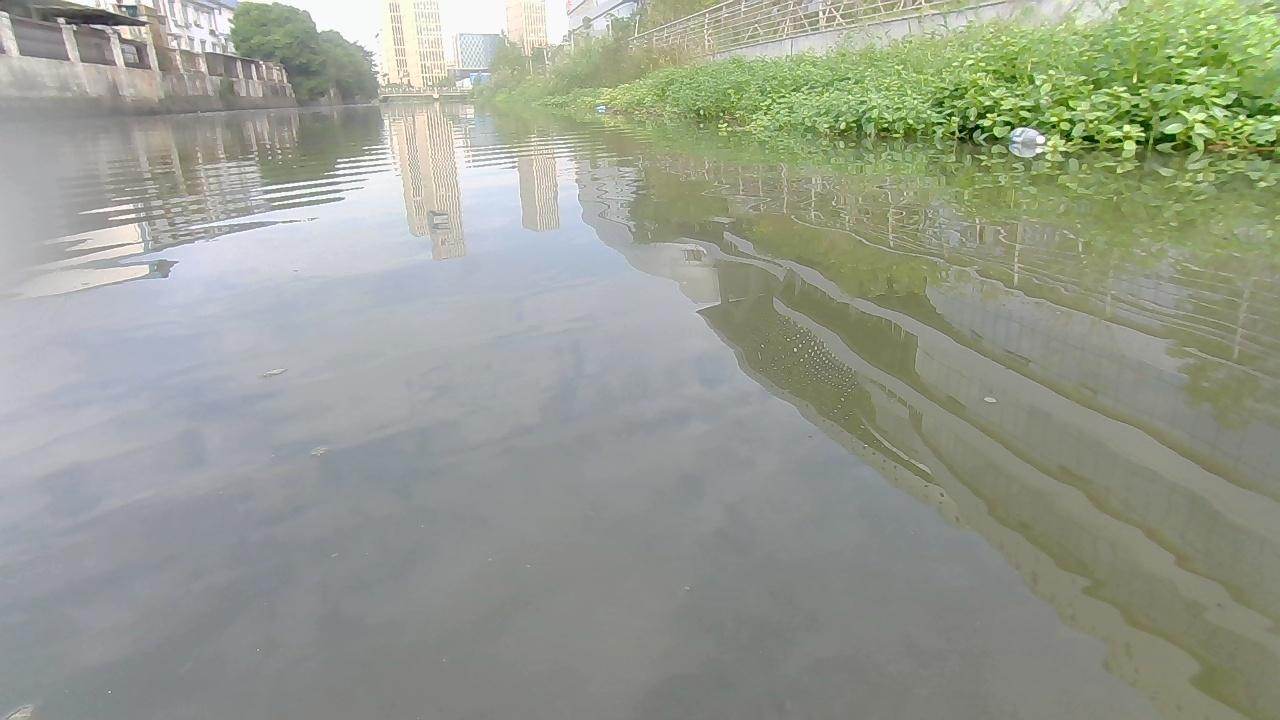bottle: (1008, 128, 1052, 150)
